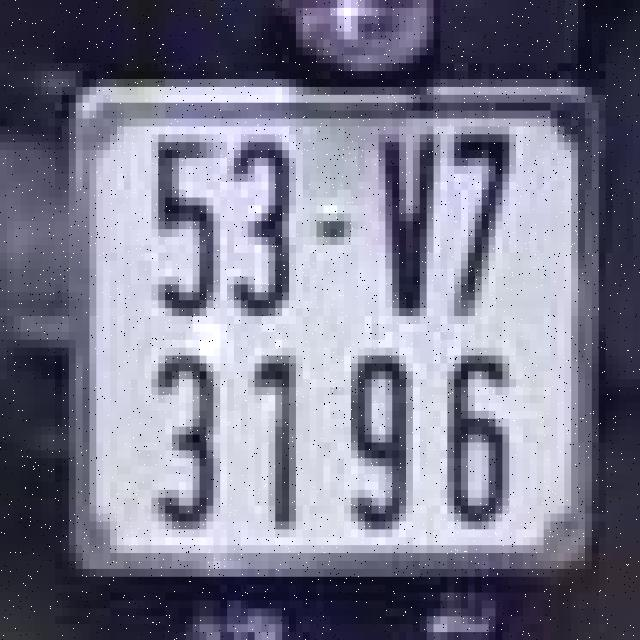1: (244, 340, 306, 545)
3: (227, 138, 303, 320), (148, 352, 217, 541)
5: (141, 122, 231, 320)
6: (437, 332, 526, 545)
7: (451, 122, 526, 328)
9: (341, 344, 416, 541)
V: (365, 126, 440, 316)
